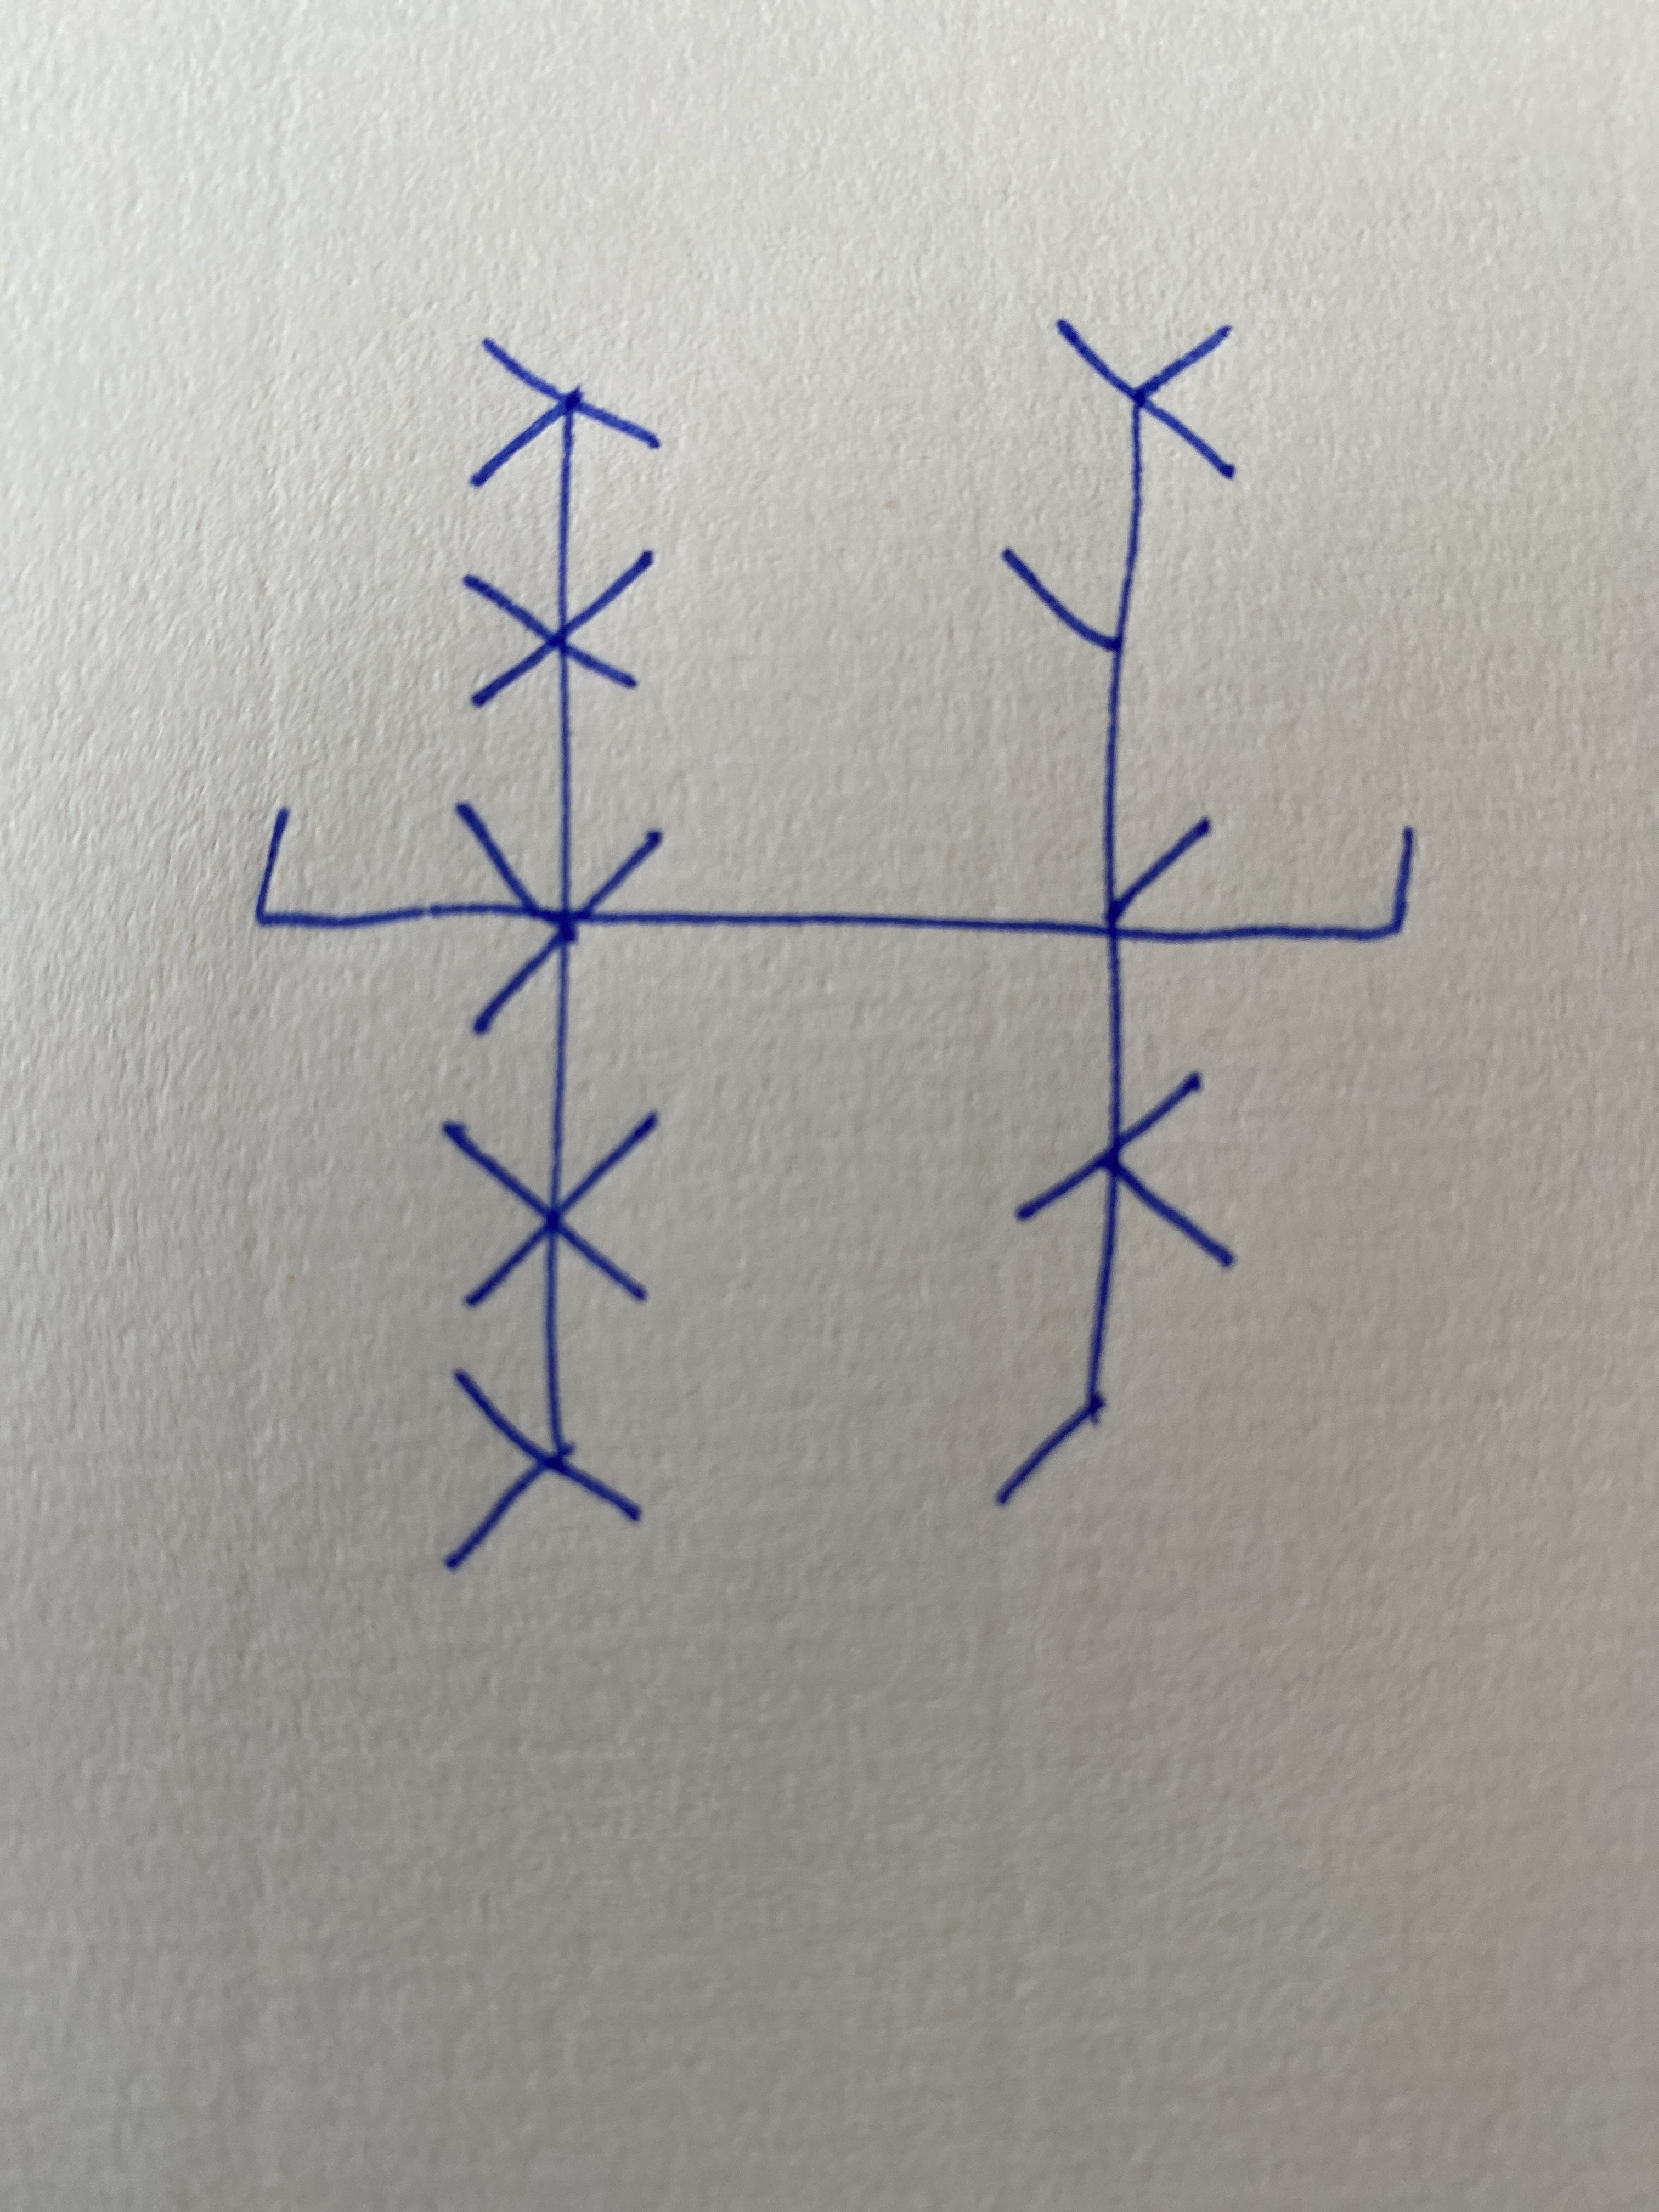Bar: (993, 320, 1236, 1510), (439, 336, 666, 1571)
Barcode: (254, 319, 1417, 1573)
End: (1215, 822, 1415, 942)
Start: (254, 805, 450, 930)
